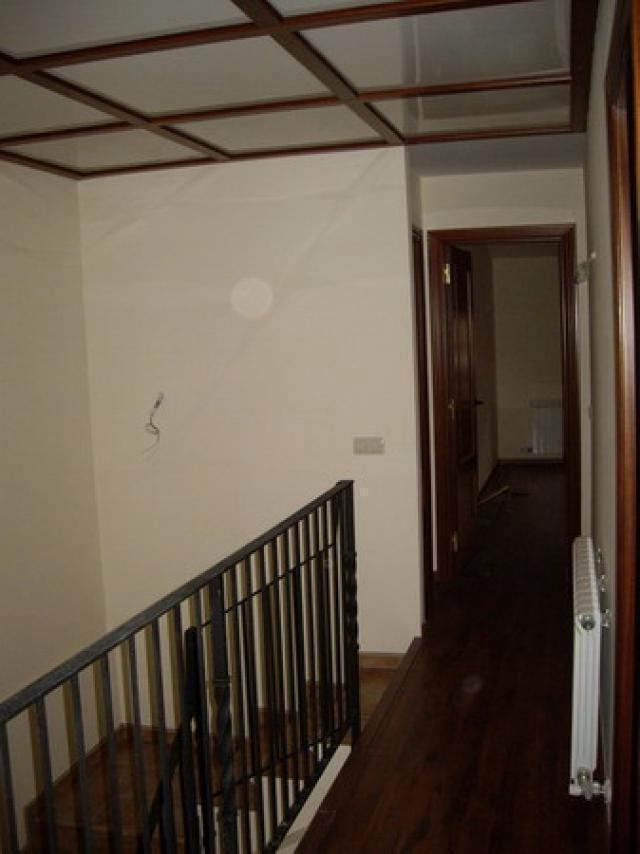Escaleras: (12, 453, 407, 848)
Otro Obstaculo: (556, 524, 604, 808)
Puerta: (437, 241, 476, 570)
